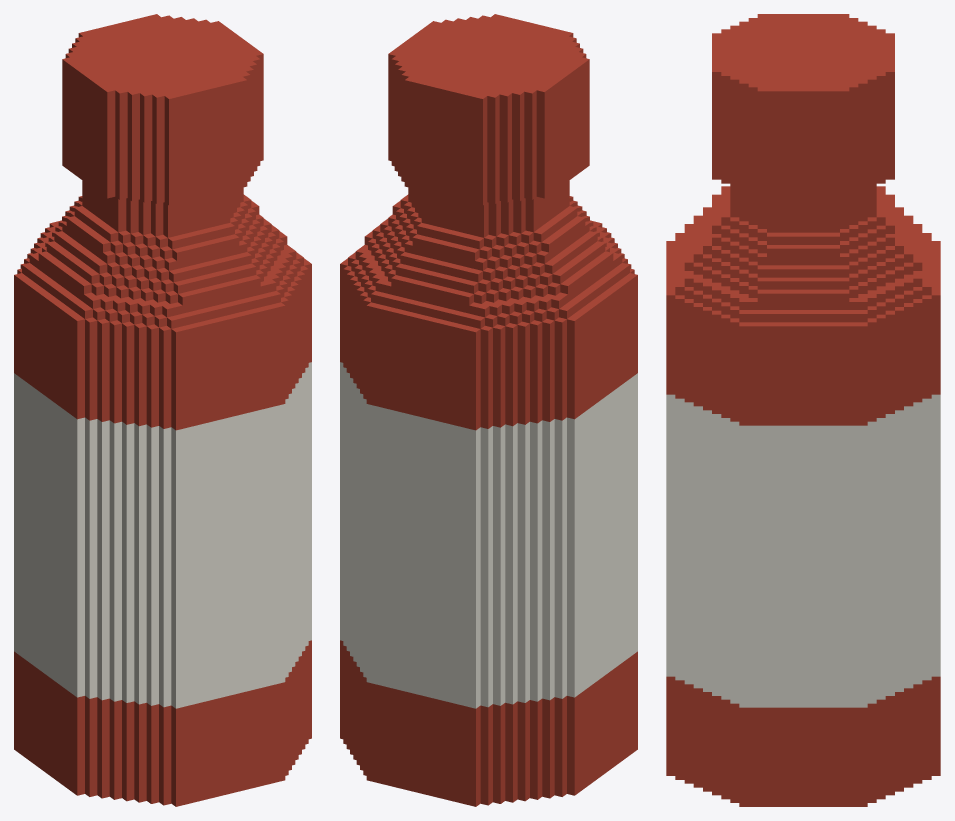
File: heartburn_syrup.glb
3 renders of one model, left to right at view 1: azimuth 30°, elevation 25°; view 2: azimuth 150°, elevation 25°; view 3: azimuth 270°, elevation 25°, orthographic.
Visible parts, largest first — view 1: heartburn_syrup:vessel; view 2: heartburn_syrup:vessel; view 3: heartburn_syrup:vessel.
Boxes of the visible parts, left/top/right/bottom form: heartburn_syrup:vessel: left=14, top=14, right=311, bottom=806; heartburn_syrup:vessel: left=340, top=14, right=637, bottom=806; heartburn_syrup:vessel: left=666, top=14, right=940, bottom=806.
Bounding box in the file's own units: 0.06 × 0.168 × 0.06.
